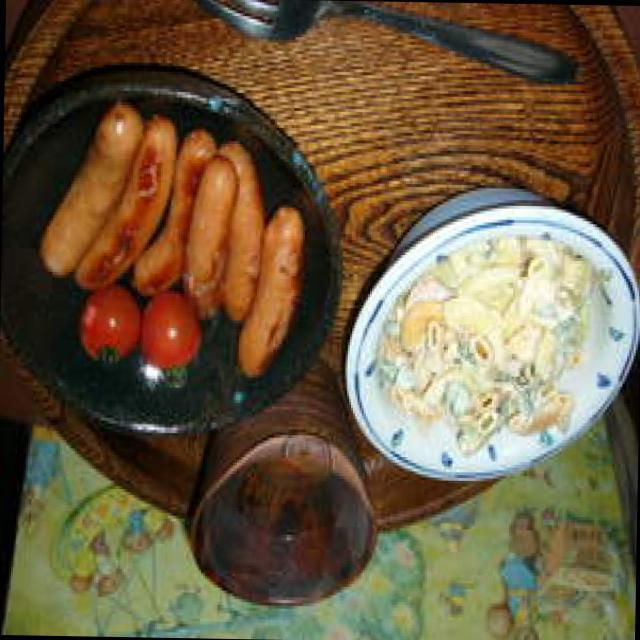Sausage: (38, 102, 305, 324)
Tomato: (76, 290, 206, 385)
